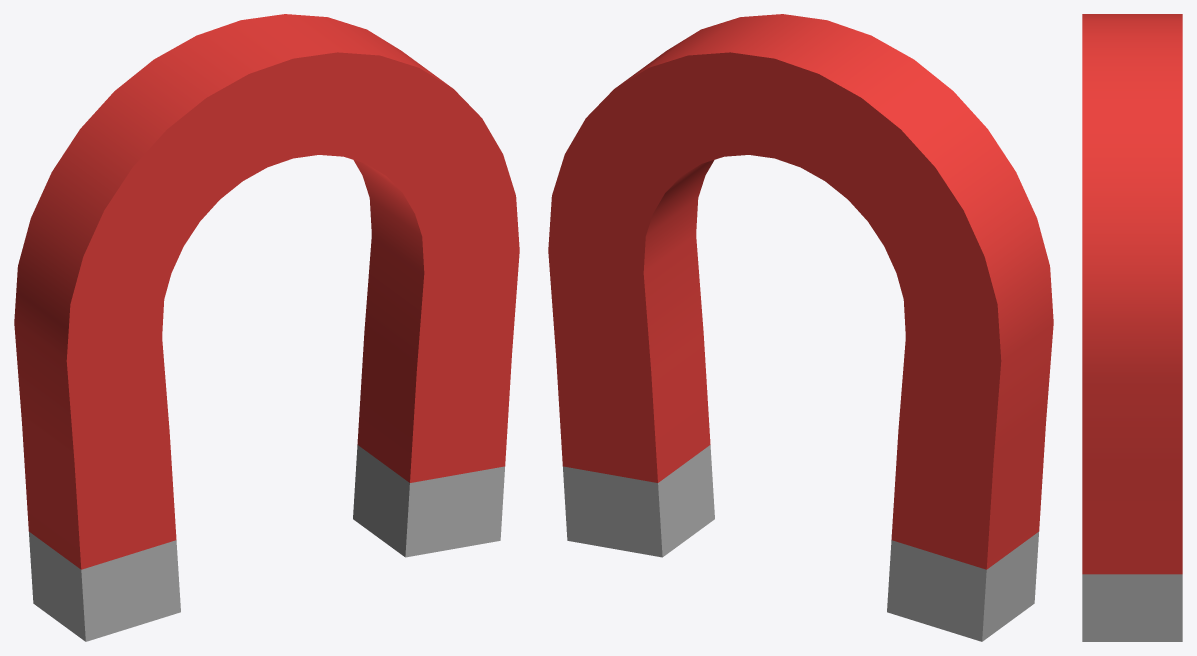
File: magnet.glb
3 views of the same model, side by side, from view 1: azimuth 30°, elevation 25°; view 2: azimuth 150°, elevation 25°; view 3: azimuth 270°, elevation 25° (orthographic). The views are drawn at different scales.
Parts seen in each view (by area): view 1: Circle.2593; view 2: Circle.2593; view 3: Circle.2593.
Part boxes in pixels (bbox=[...]): Circle.2593: bbox=[14, 14, 519, 641]; Circle.2593: bbox=[548, 14, 1053, 641]; Circle.2593: bbox=[1082, 14, 1182, 641].
Bounding box in the file's own units: 1.97 × 2.22 × 0.396.
1 material, 1 textured.
